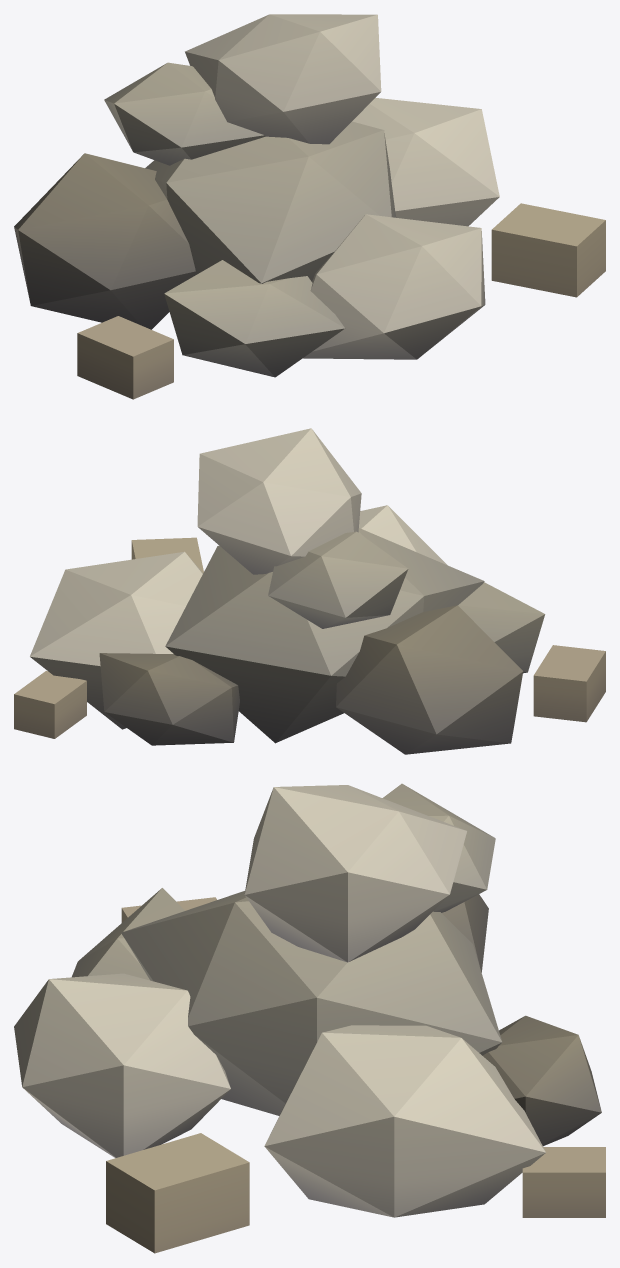
File: res_stone.glb
3 renders of one model, top to bottom at view 1: azimuth 30°, elevation 25°; view 2: azimuth 150°, elevation 25°; view 3: azimuth 270°, elevation 25°, orthographic. The views are drawn at different scales.
Visible parts, largest first — view 1: res_stone; view 2: res_stone; view 3: res_stone.
Part boxes in pixels (bbox=[...]): res_stone: bbox=[14, 14, 605, 399]; res_stone: bbox=[14, 428, 605, 754]; res_stone: bbox=[14, 783, 605, 1253].
Bounding box in the file's own units: 4.65 × 2.49 × 3.83.
Materials: 1 (1 with a texture image).
